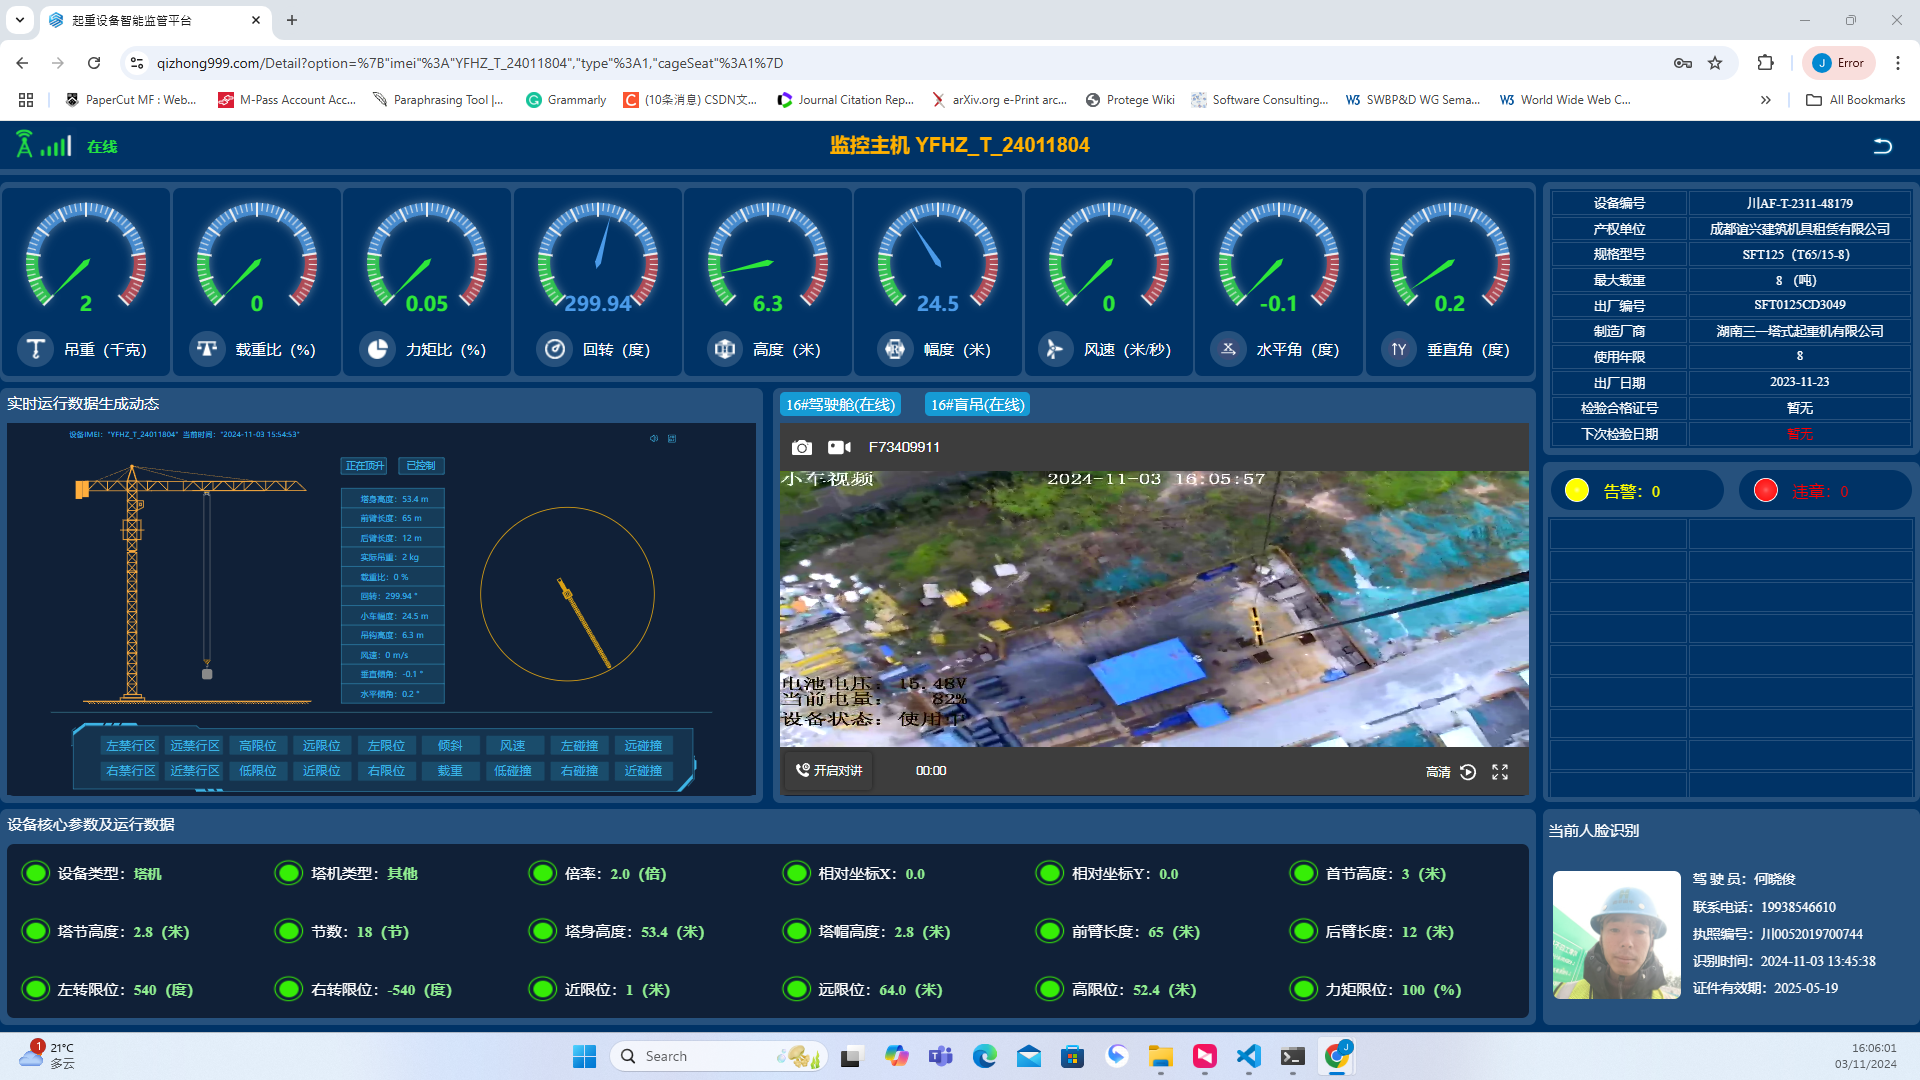text: (1245, 291, 1313, 314), (869, 981, 945, 1001), (1122, 980, 1199, 1000), (1391, 980, 1468, 1000), (1073, 293, 1143, 314), (377, 981, 455, 1000), (124, 923, 196, 943), (225, 291, 289, 314), (905, 293, 972, 314), (733, 293, 803, 313), (1414, 293, 1484, 313), (394, 293, 459, 314), (345, 923, 419, 942), (123, 981, 196, 1000), (1760, 270, 1829, 290), (632, 923, 704, 942), (884, 923, 956, 942), (1138, 923, 1211, 942), (1391, 923, 1464, 942), (57, 291, 116, 314), (1746, 869, 1812, 889), (563, 294, 632, 313), (616, 981, 684, 1000), (603, 865, 670, 884), (1393, 865, 1452, 884), (894, 866, 942, 882), (1149, 866, 1195, 882), (396, 531, 433, 545), (380, 589, 415, 603), (396, 493, 433, 505), (396, 512, 433, 524), (396, 551, 433, 563), (388, 571, 425, 583), (396, 611, 433, 622), (396, 629, 433, 641), (396, 669, 433, 680), (396, 688, 433, 700), (380, 649, 415, 661)
